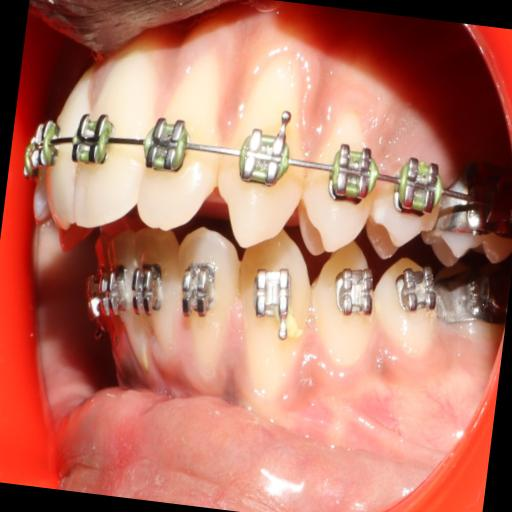correct_brace: (296, 105, 380, 258), (298, 236, 384, 370), (244, 265, 298, 347), (330, 262, 378, 330), (176, 257, 222, 325), (390, 261, 438, 324)
incorrect_brace: (133, 42, 232, 236), (163, 220, 247, 391)
